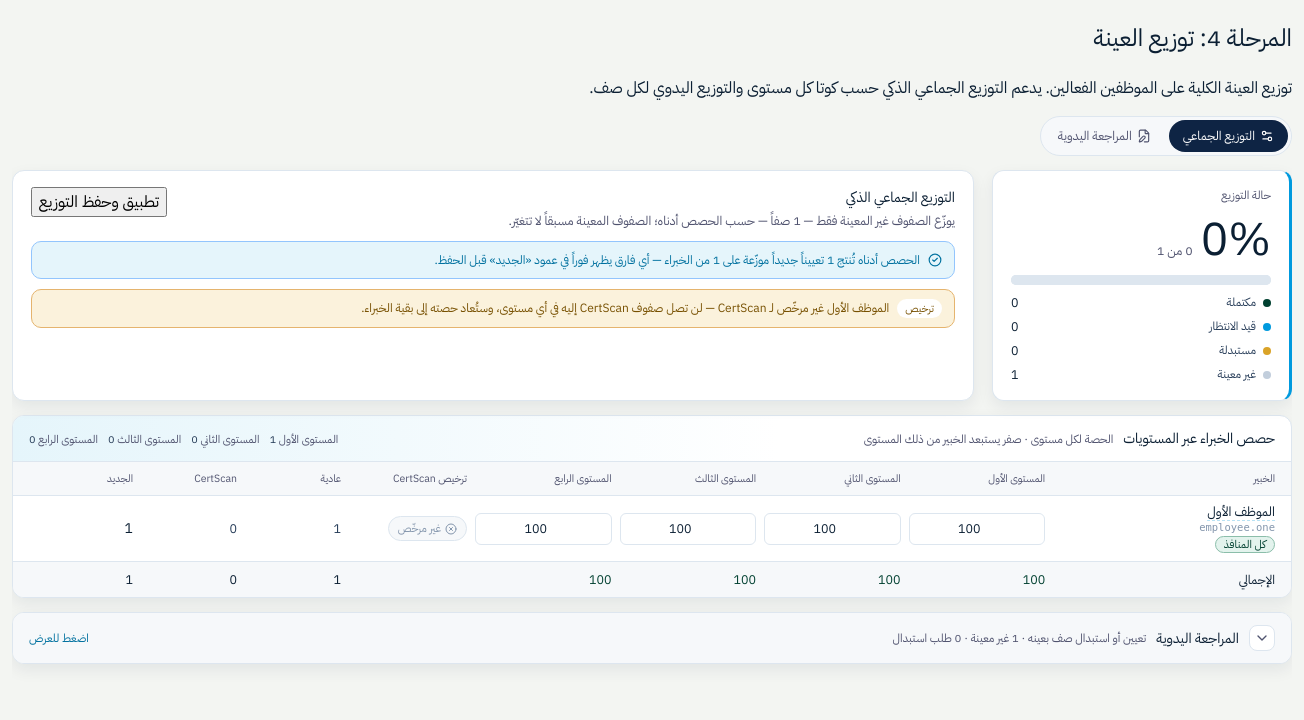
Scenario: PhaseFourDistribution — حصص الخبراء matrix (5c) › editing a matrix cell recomputes the الجديد preview and the totals row
Replace the text in the number field named "حصة الموظف الأول في المستوى الأول" with "0": (977, 529) [909,513,1045,545]
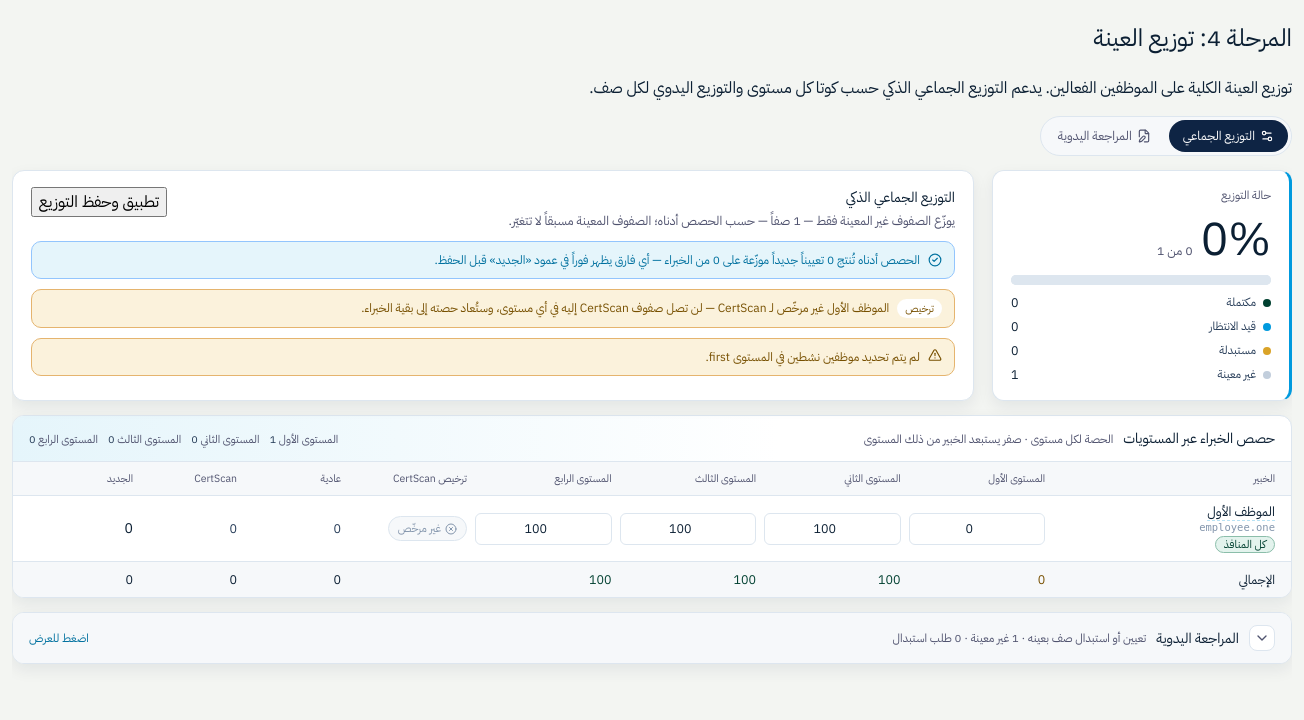
Replace the text in the number field named "حصة الموظف الأول في المستوى الثاني" with "0": (832, 529) [764,513,901,545]
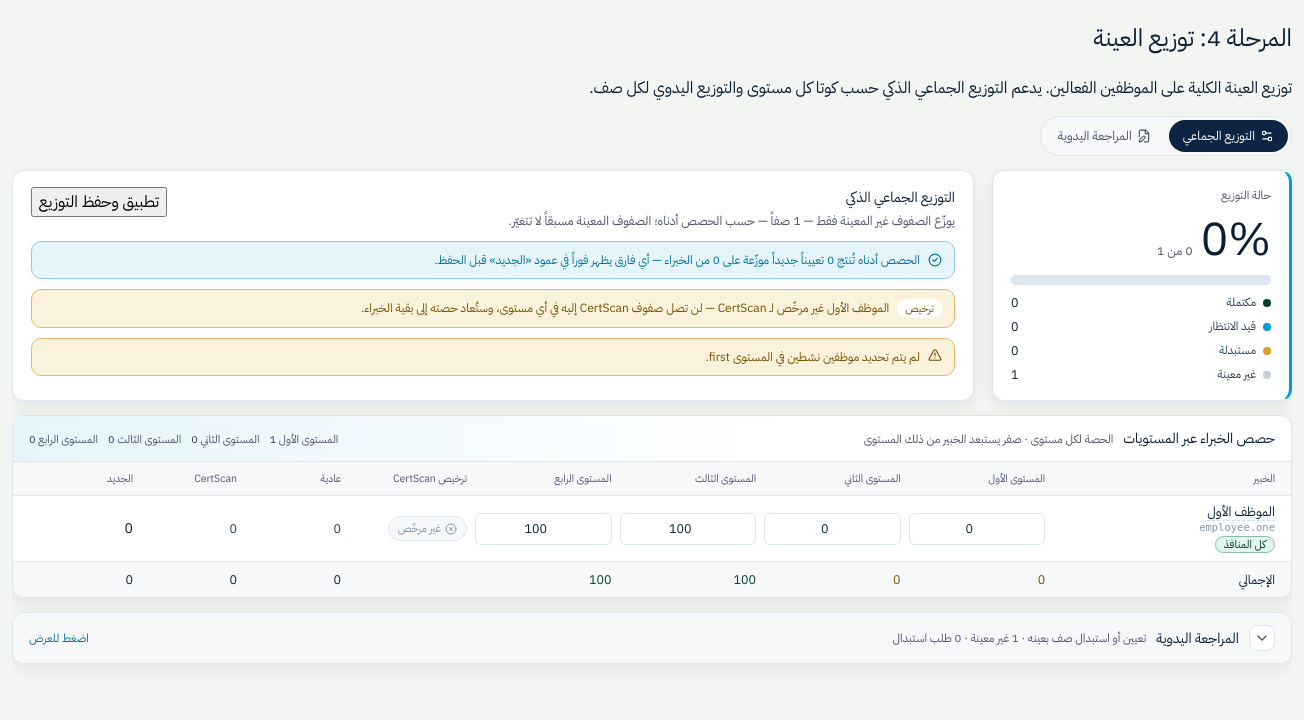
Replace the text in the number field named "حصة الموظف الأول في المستوى الثالث" with "0": (688, 529) [620,513,756,545]
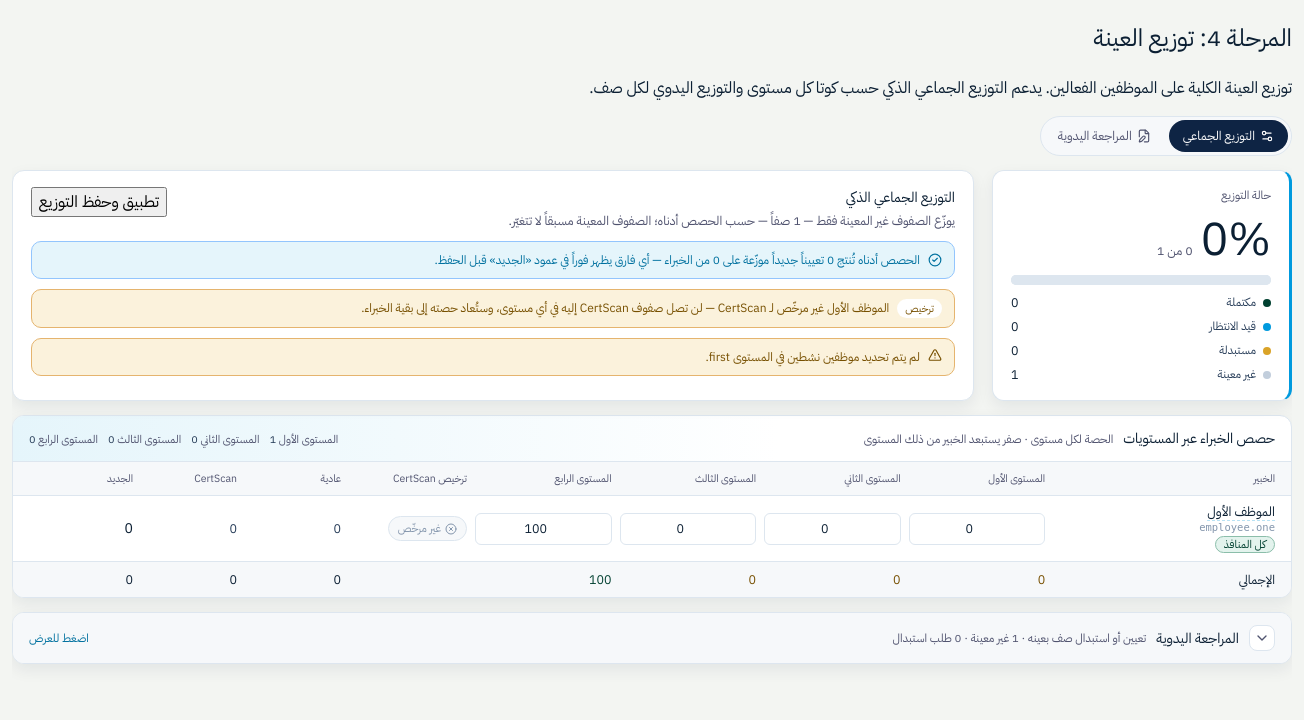
Replace the text in the number field named "حصة الموظف الأول في المستوى الرابع" with "0": (543, 529) [475,513,612,545]
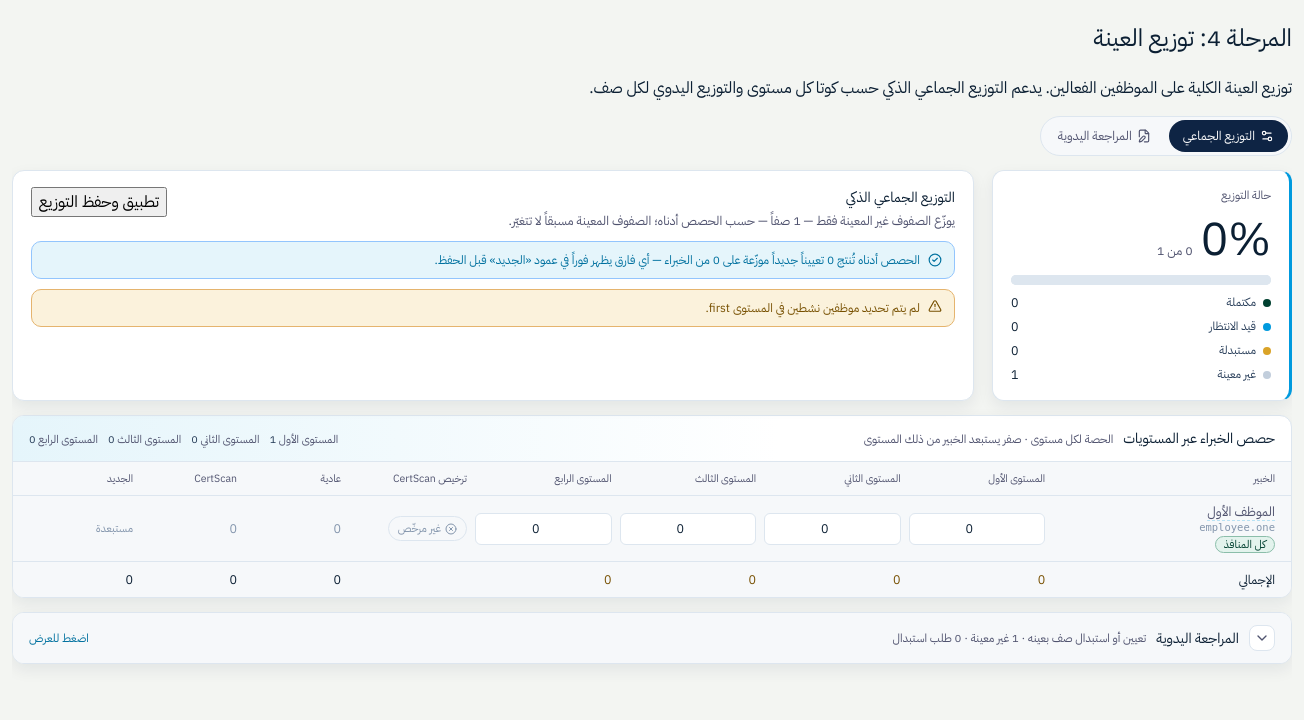
Expected: the row with class "excluded" is shown, [13,496,1291,562]
Expected: the text "مستبعدة" is shown, [96,520,133,537]
Replace the text in the number field named "حصة الموظف الأول في المستوى الأول" with "100": (977, 529) [909,513,1045,545]
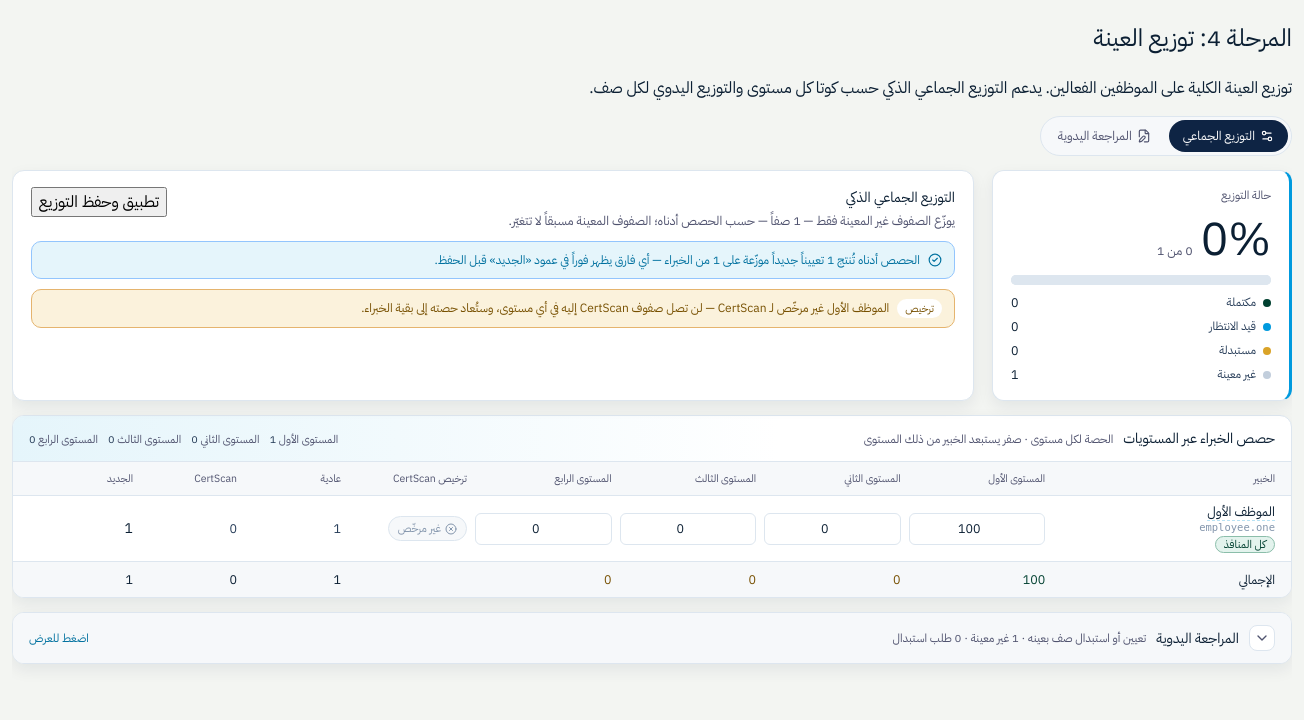
Expected: the 3rd text "1" is shown, [125,518,133,539]
Expected: the 5th text "1" is shown, [126,570,133,589]
